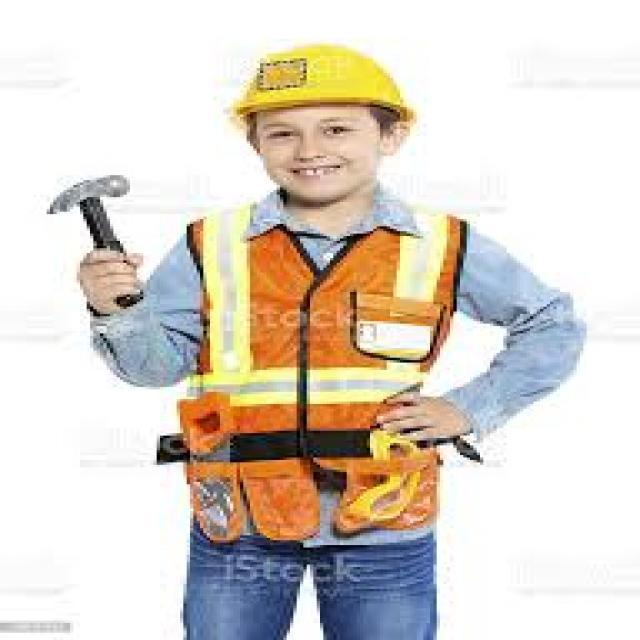hammer: (36, 153, 144, 314)
